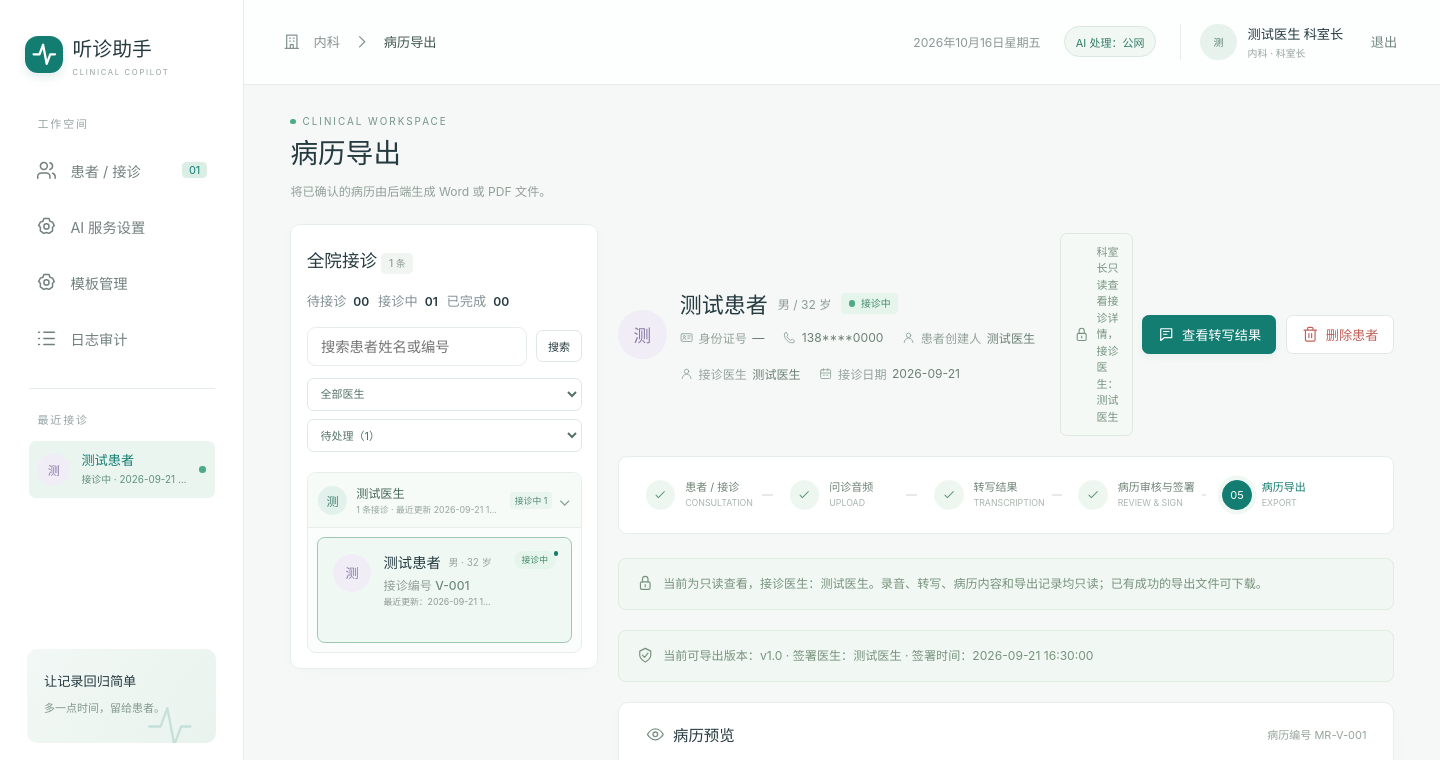
Test: department head read-only visit view › loads visit artifacts and exposes navigation without write controls
Expected: the element with class "read-only-banner" is shown, [618, 558, 1394, 610]
Click the button with class "step" showing "问诊音频 UPLOAD" at (862, 495), box [790, 479, 934, 511]
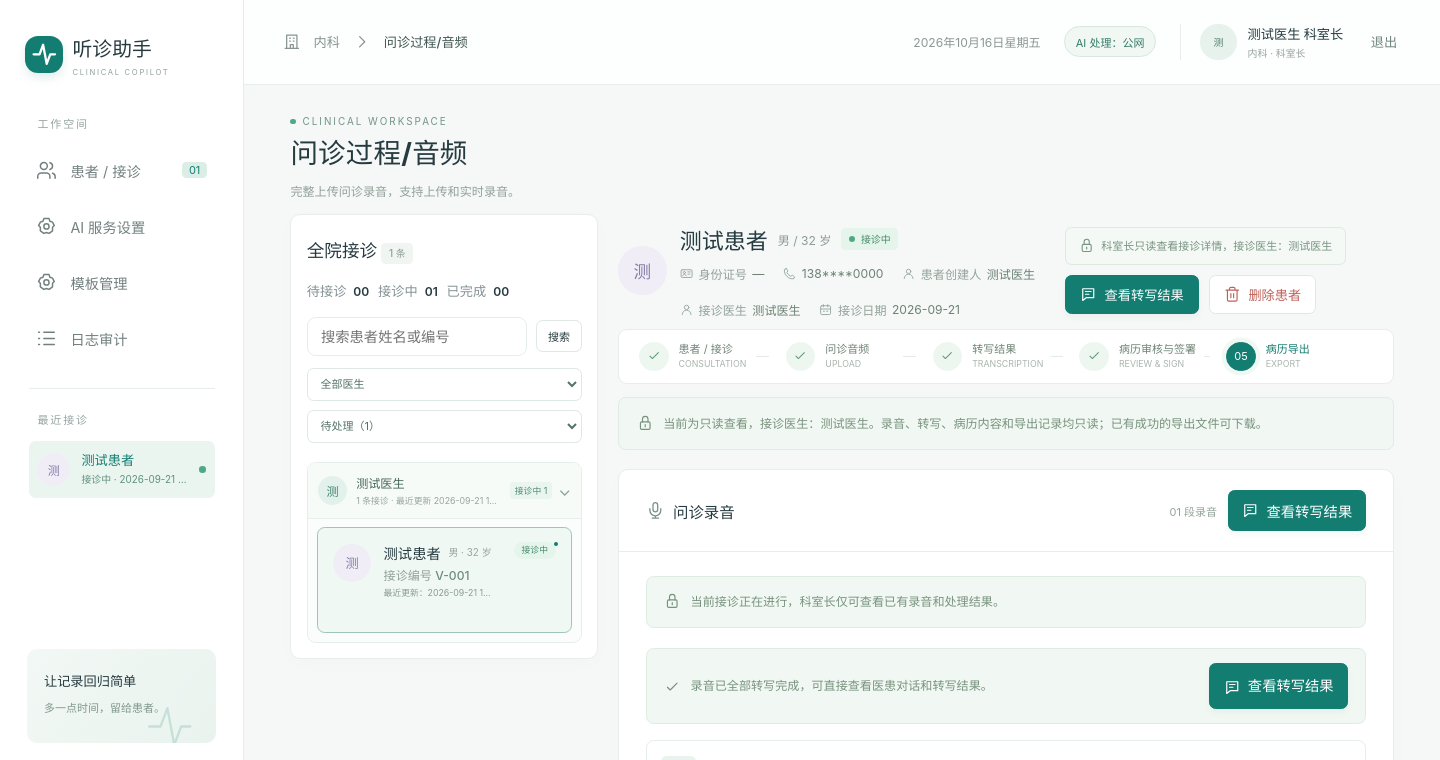
Result: the text "问诊录音" is shown at [290, 184, 520, 199]
Click the button with class "step" showing "病历审核与签署 REVIEW & SIGN" at (1153, 356), box [1079, 341, 1226, 372]
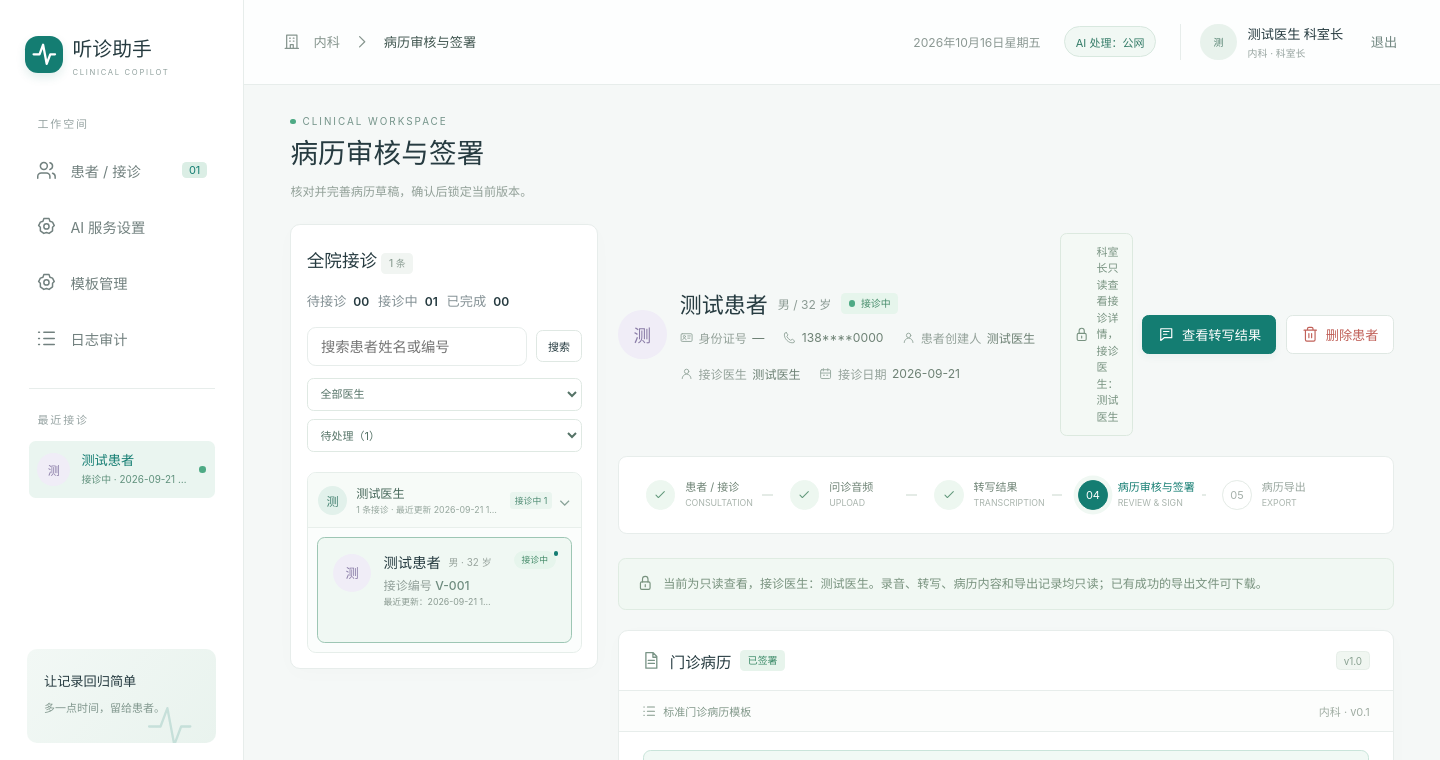
Result: the text "门诊病历" is shown at [670, 653, 731, 672]
Click the button with class "step" showing "05 病历导出 EXPORT" at (1294, 495), box [1222, 479, 1366, 511]
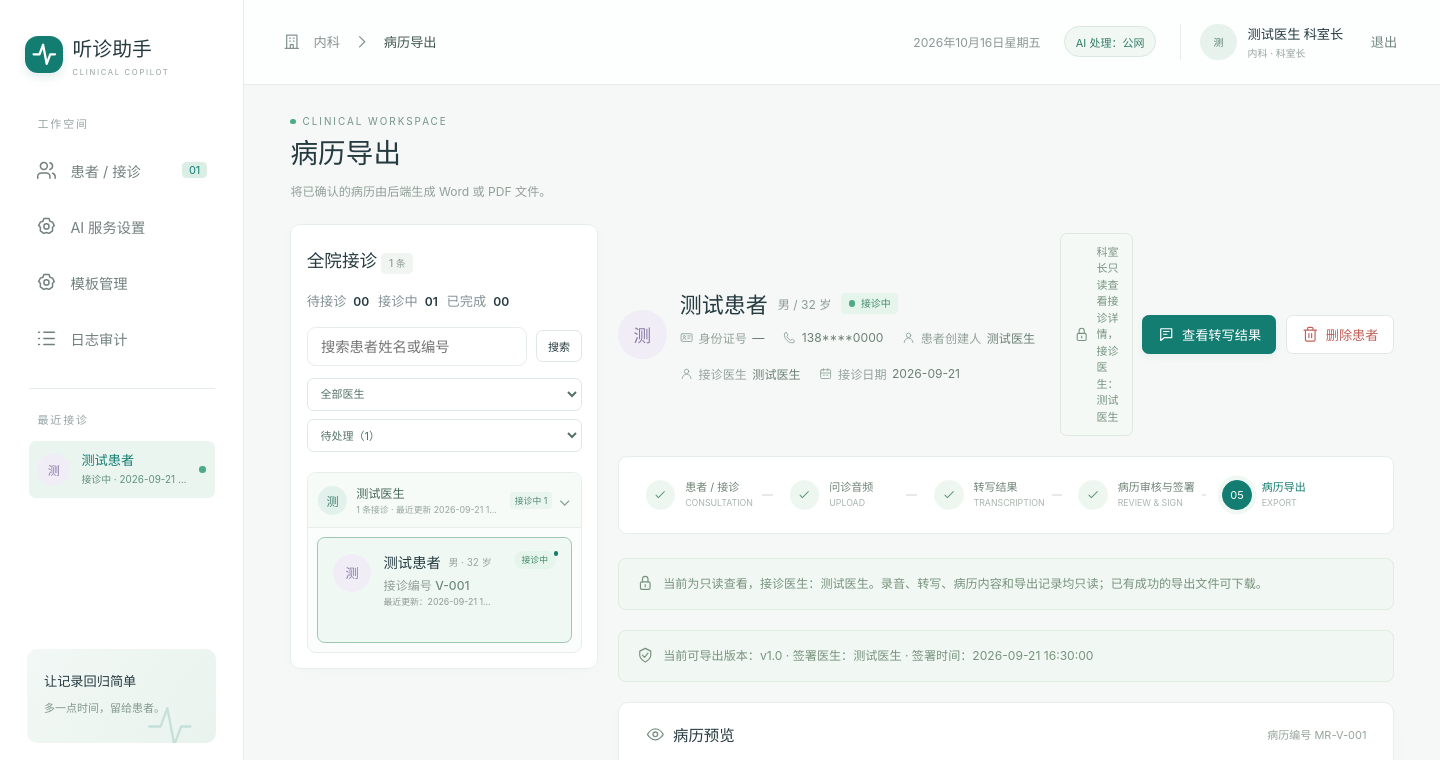
Expected: the text "导出记录" is shown, [663, 576, 1268, 591]
Result: the text "病历预览" is shown at [646, 723, 735, 745]
